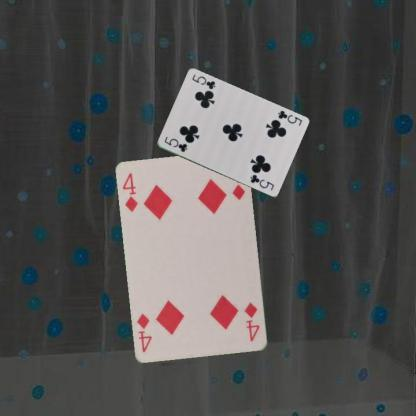4d: (120, 170, 139, 214), (242, 300, 261, 343)
5c: (275, 108, 303, 127), (162, 134, 188, 154)
